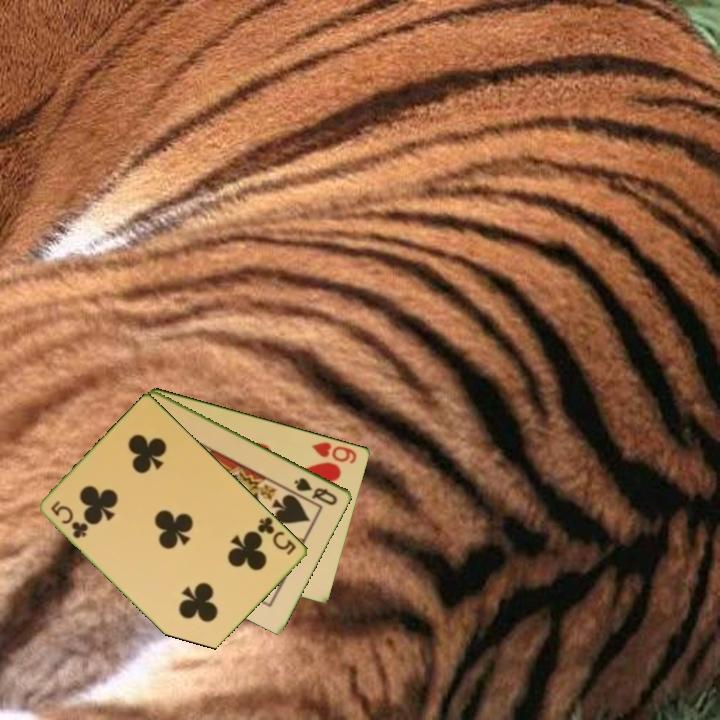5c: (254, 513, 299, 558), (47, 497, 92, 541)
6h: (309, 438, 360, 466)
Qs: (291, 474, 341, 508)
